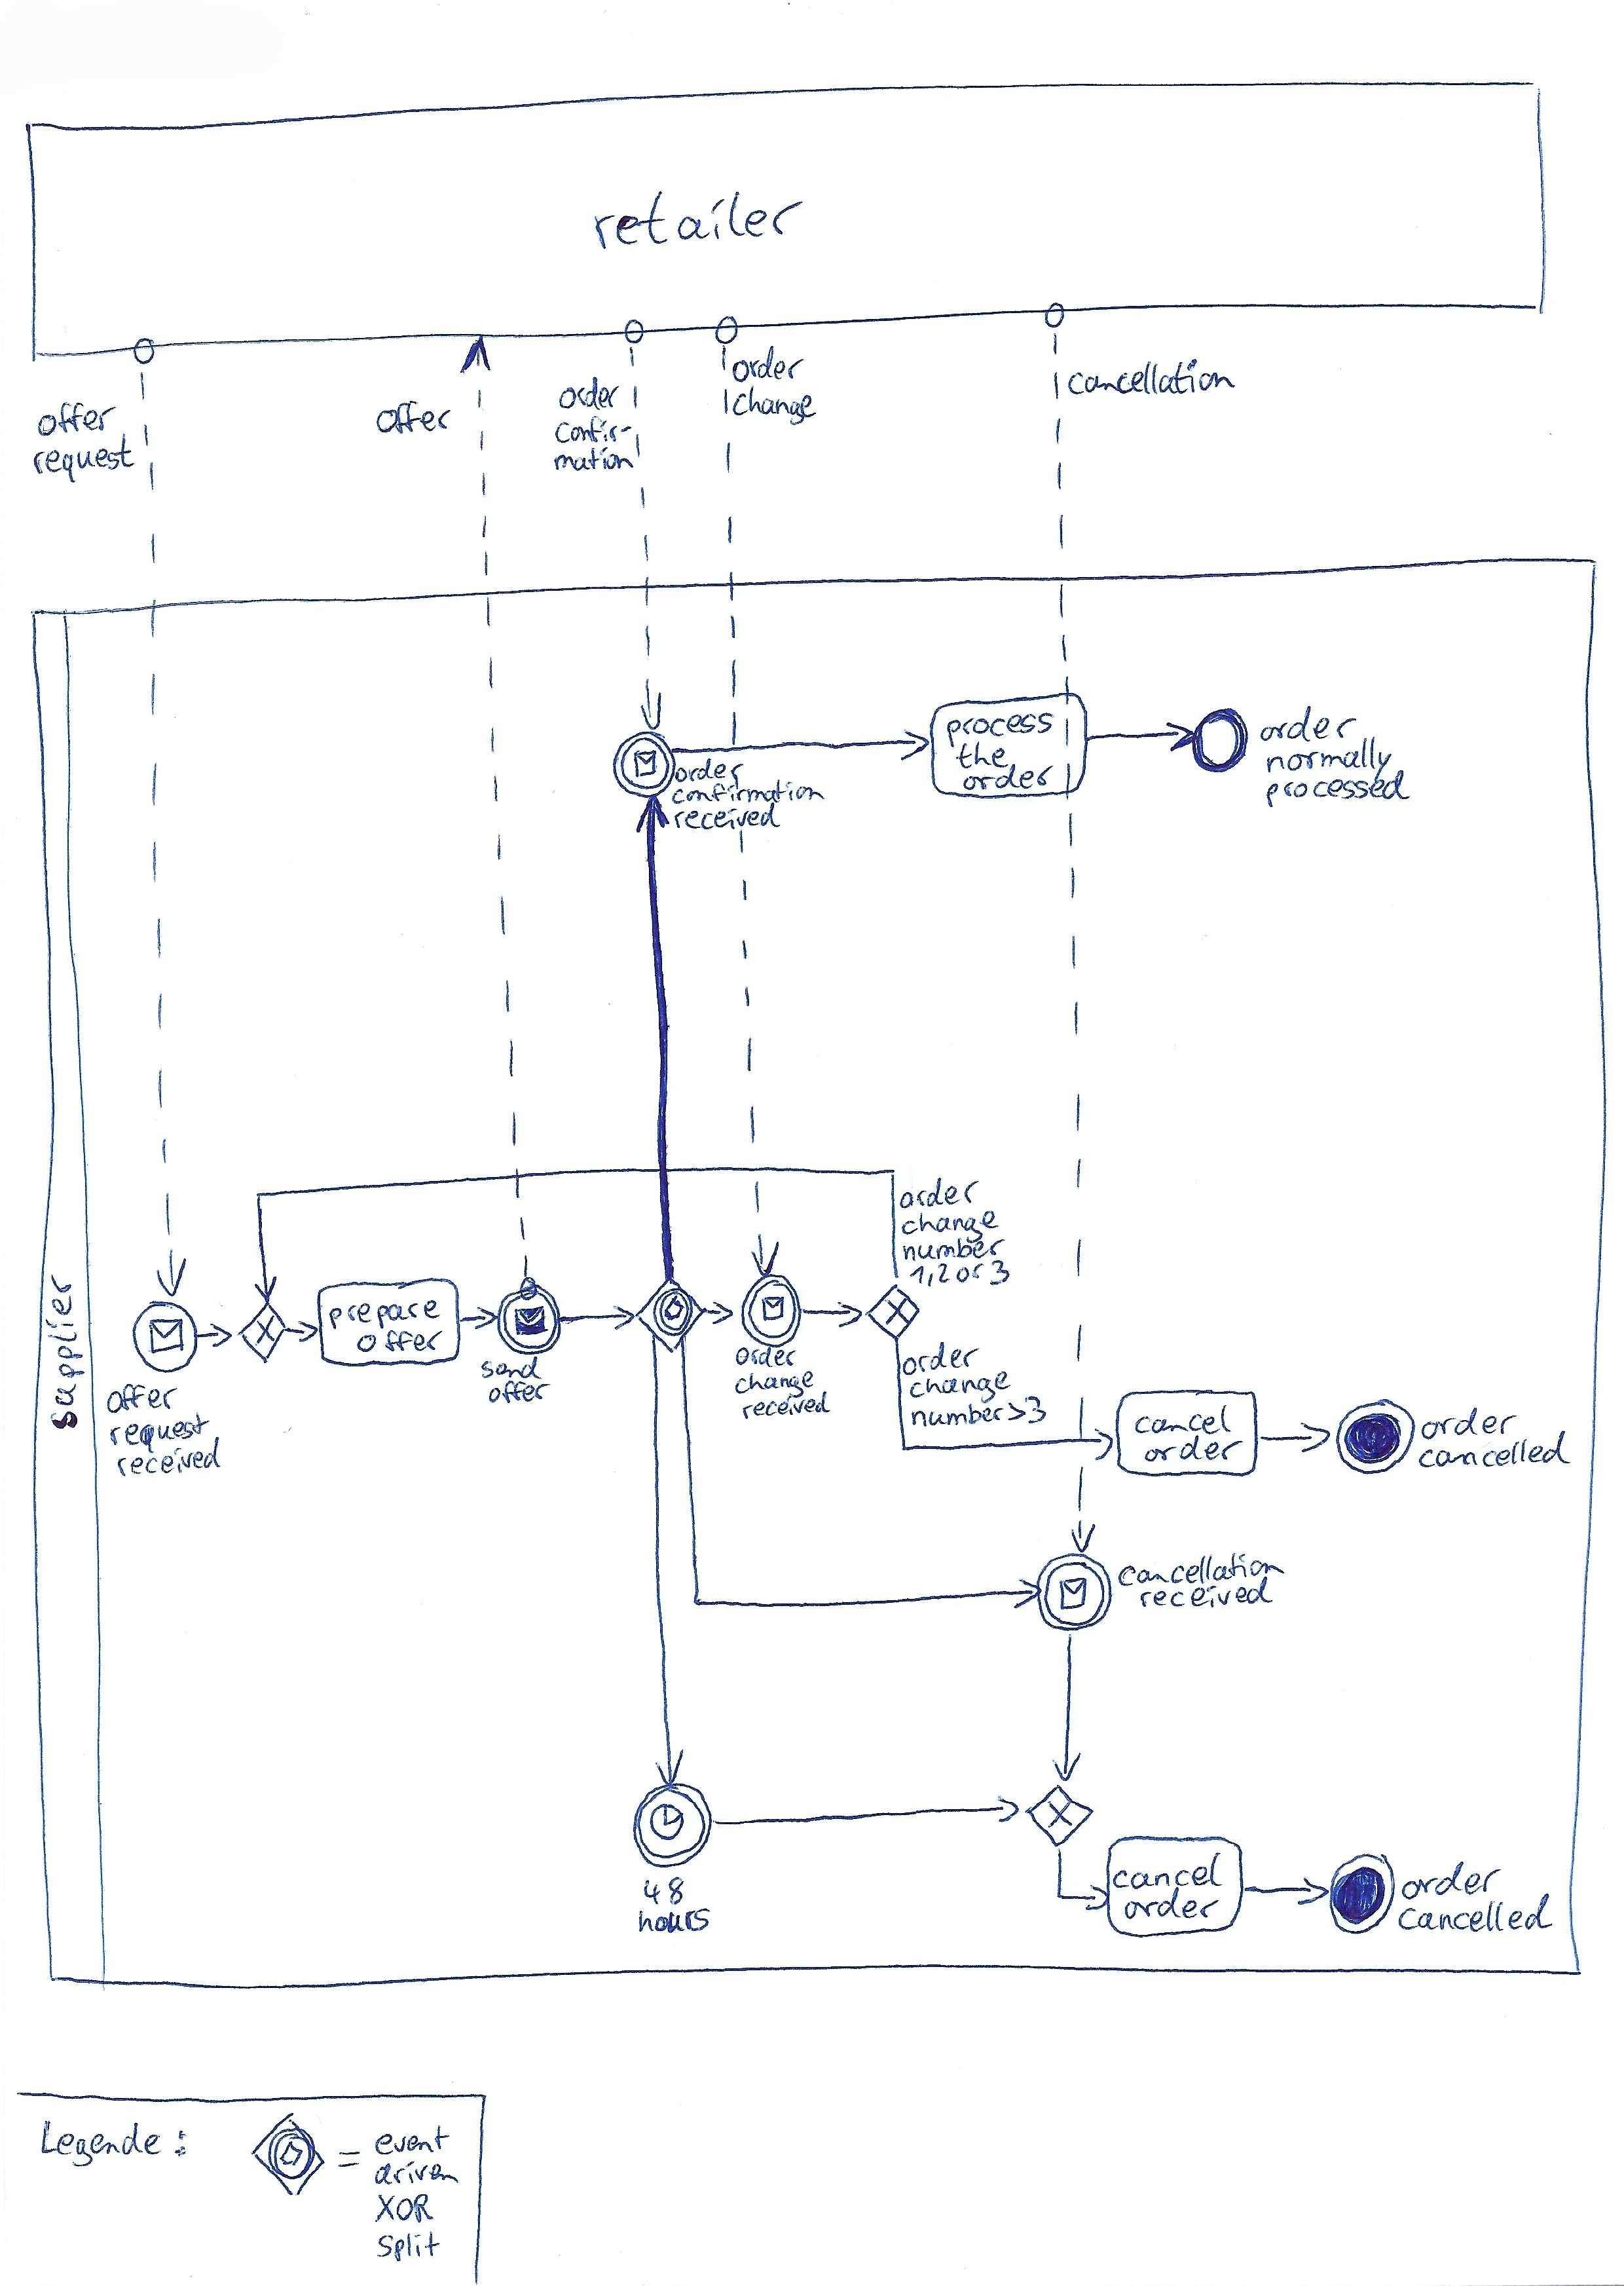1,2: (912, 1258, 947, 1290)
3: (988, 1256, 1012, 1291)
48: (647, 1877, 687, 1905)
=: (336, 2145, 362, 2170)
>3: (1011, 1395, 1049, 1427)
Confir-: (555, 418, 627, 448)
Legende:: (35, 2123, 190, 2165)
Split: (378, 2232, 439, 2260)
XOR: (378, 2193, 438, 2225)
cancel: (1113, 1859, 1227, 1894), (1135, 1411, 1234, 1437)
cancellation: (1063, 360, 1236, 402), (1120, 1552, 1285, 1590)
cancelled: (1399, 1896, 1554, 1936), (1418, 1432, 1573, 1472)
change: (909, 1369, 1014, 1402), (902, 1207, 1004, 1241), (729, 388, 819, 422), (735, 1371, 821, 1395)
confirmation: (671, 782, 830, 810)
driven: (376, 2161, 462, 2191)
event: (376, 2126, 450, 2159)
hours: (640, 1908, 714, 1936)
mation: (555, 450, 629, 474)
normally: (1267, 743, 1397, 778)
number: (903, 1228, 1009, 1265), (912, 1399, 1009, 1434)
offer: (376, 395, 450, 434), (37, 401, 114, 436), (107, 1383, 183, 1416), (362, 1330, 445, 1356), (489, 1379, 547, 1404)
or: (954, 1258, 984, 1286)
order: (1403, 1861, 1506, 1906), (1258, 705, 1357, 743), (896, 1177, 981, 1214), (963, 764, 1062, 796), (1424, 1409, 1515, 1443), (1123, 1894, 1225, 1924), (1144, 1439, 1250, 1467), (735, 350, 807, 387), (902, 1344, 981, 1378), (559, 380, 619, 411), (736, 1346, 796, 1369), (677, 763, 745, 782)
prepare: (329, 1299, 439, 1330)
process: (946, 710, 1058, 742)
processed: (1264, 773, 1415, 812)
received: (114, 1441, 227, 1483), (1139, 1581, 1280, 1613), (738, 1395, 835, 1425), (670, 808, 780, 833)
request: (28, 430, 139, 485), (111, 1409, 211, 1450)
retailer: (591, 188, 798, 248)
send: (482, 1358, 543, 1381)
supplier: (42, 1270, 83, 1429)
the: (954, 743, 1019, 770)
